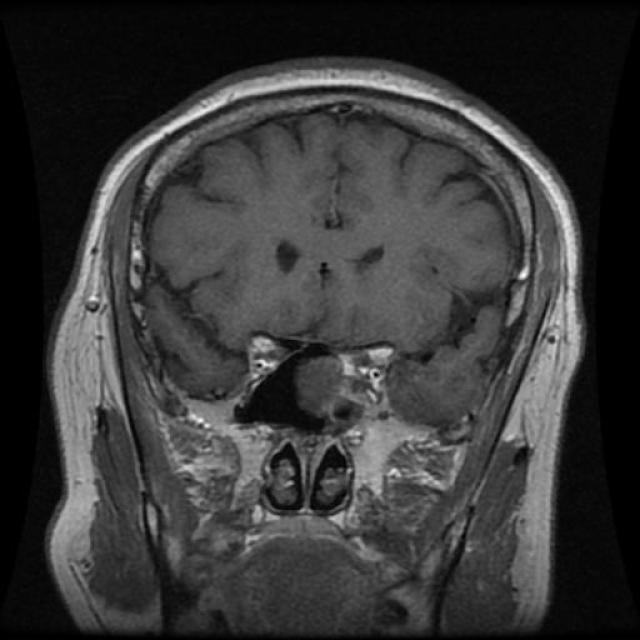pituitary: (289, 348, 364, 432)
